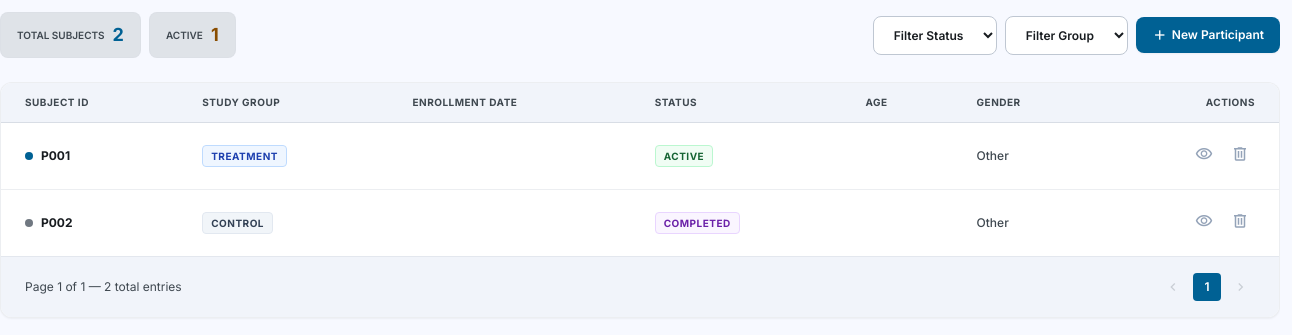
Test case: ParticipantsPage Component › filters participants based on group and status filters
This screenshot has width=1292, height=335.
Expected: the text "P001" is shown, left=41, top=148, right=70, bottom=164
Expected: the text "P002" is shown, left=41, top=215, right=72, bottom=231
# Filter by active status
Select "Active" in the 1st dropdown at (935, 35), box left=873, top=16, right=997, bottom=54
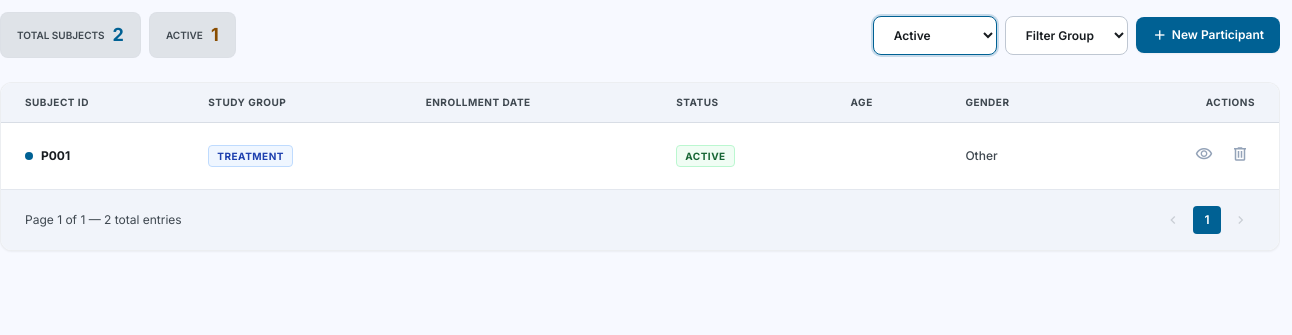
Expected: the text "P001" is shown, left=41, top=148, right=70, bottom=164
Result: the text "P002" is gone
